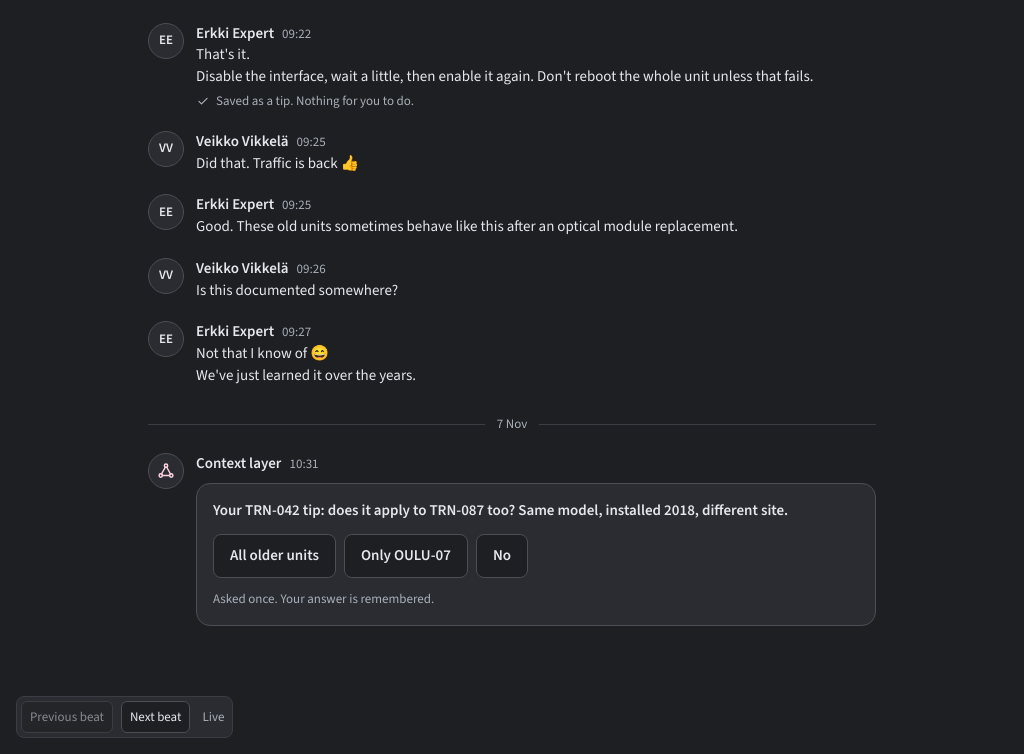
it: thread page › renders 12 messages, one capture line and the question; one tap answers it and shows the notification
(page scrolled)
expect the text "does it apply to TRN-087 too" is shown: met, box left=213, top=500, right=788, bottom=520
expect the text "Saved as a tip. Nothing for you to do." is shown once: met, box left=196, top=92, right=414, bottom=109
What coordinates should you click on to do the following:
click the button "All older units"
I would click on:
 (274, 556)
Its box is left=213, top=534, right=336, bottom=578.
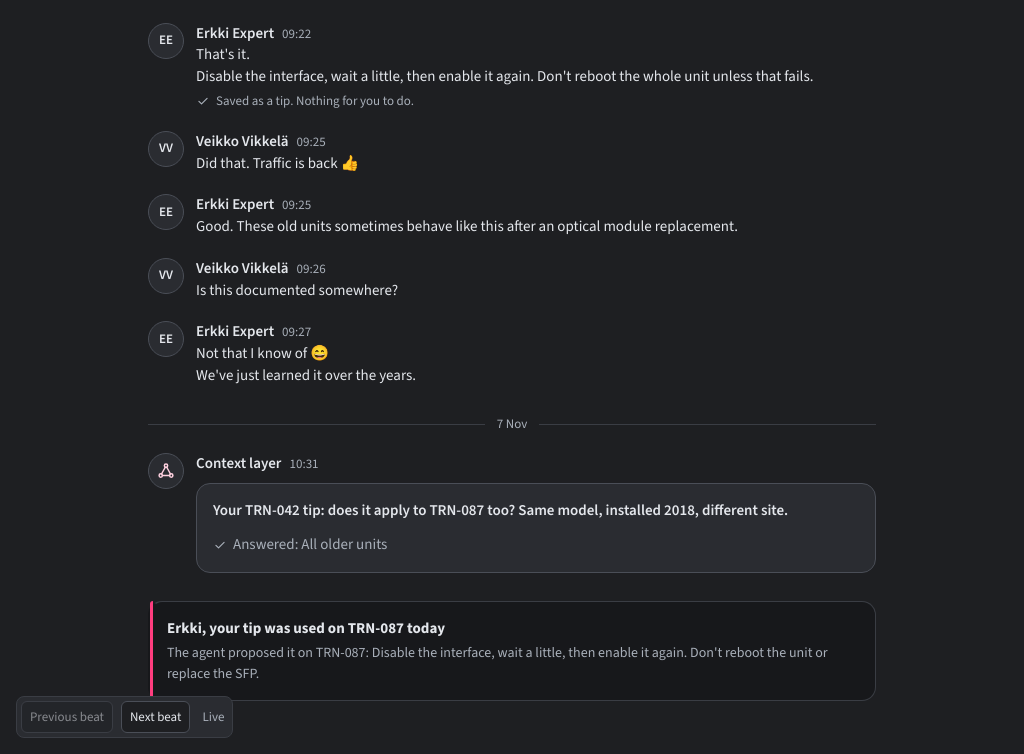
expect the text "Answered: All older units" is shown: met, box left=213, top=534, right=387, bottom=554
expect the text "Erkki, your tip was used on TRN-087 today" is shown: met, box left=167, top=618, right=445, bottom=638
